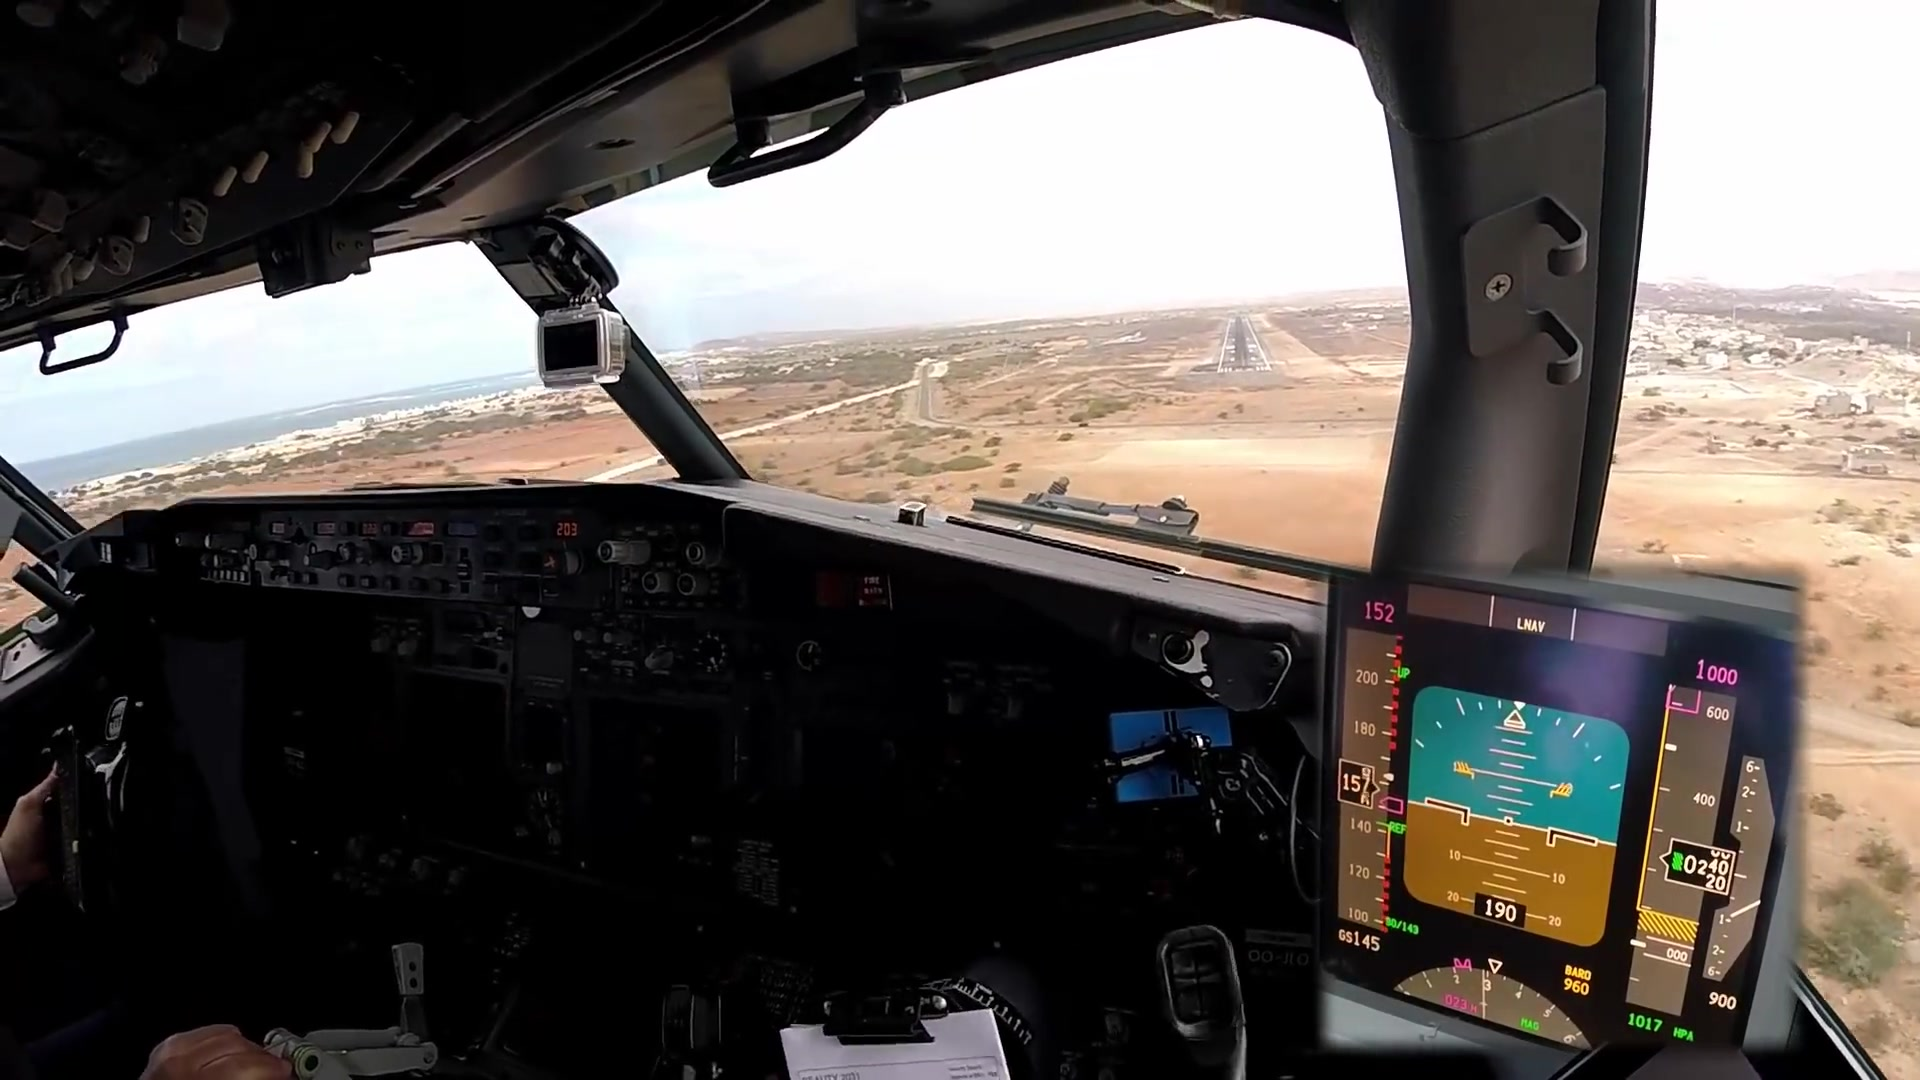entrance: (1218, 367, 1270, 373)
runway: (1217, 316, 1274, 375)
